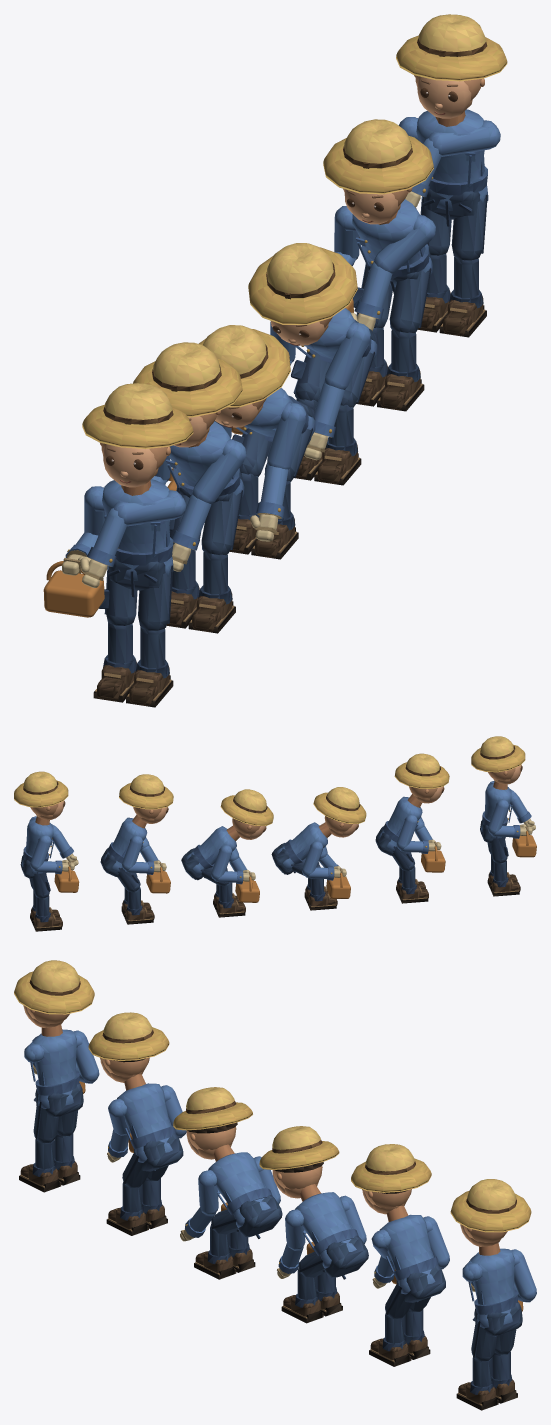
Rendered from ba-harvest-side-after.glb.
3 renders of one model, top to bottom at view 1: azimuth 30°, elevation 25°; view 2: azimuth 150°, elevation 25°; view 3: azimuth 270°, elevation 25°, orthographic. The views are drawn at different scales.
Visible parts, largest first — view 1: strawHat (×6), denimJacketTorso (×6), leftShin (×6), leftUpperArm (×6), rightShin (×5), head (×5), leftThigh (×5), leftLowerArm (×5), rightThigh (×4), trouserHips (×2), harvestBasket, rightUpperArm (×2); view 2: strawHat (×6), denimJacketTorso (×6), rightShin (×6), harvestBasket (×6), rightUpperArm (×6), head (×6), rightLowerArm (×6), rightThigh (×4), trouserHips (×4), leftLowerArm (×2); view 3: denimJacketTorso (×6), strawHat (×6), leftShin (×6), trouserHips (×6), rightShin (×6), head (×6), leftThigh (×4), rightUpperArm (×3), leftUpperArm (×3).
Part boxes in pixels (<box>): strawHat (×6): <box>82,14,507,448</box>; denimJacketTorso (×6): <box>102,109,488,580</box>; leftShin (×6): <box>126,257,486,707</box>; leftUpperArm (×6): <box>112,120,500,526</box>; rightShin (×5): <box>93,253,450,702</box>; head (×5): <box>100,75,484,487</box>; leftThigh (×5): <box>138,194,487,630</box>; leftLowerArm (×5): <box>87,261,392,566</box>; rightThigh (×4): <box>99,196,451,625</box>; trouserHips (×2): <box>108,189,479,597</box>; harvestBasket: <box>43,570,104,617</box>; rightUpperArm (×2): <box>84,206,359,535</box>; strawHat (×6): <box>14,736,525,825</box>; denimJacketTorso (×6): <box>21,781,512,875</box>; rightShin (×6): <box>33,860,520,931</box>; harvestBasket (×6): <box>54,834,536,902</box>; rightUpperArm (×6): <box>30,799,509,879</box>; head (×6): <box>30,764,522,839</box>; rightLowerArm (×6): <box>33,825,520,884</box>; rightThigh (×4): <box>31,836,508,898</box>; trouserHips (×4): <box>100,826,393,880</box>; leftLowerArm (×2): <box>52,794,531,858</box>; denimJacketTorso (×6): <box>30,1024,517,1328</box>; strawHat (×6): <box>14,960,531,1232</box>; leftShin (×6): <box>19,1139,498,1410</box>; trouserHips (×6): <box>34,1083,522,1336</box>; rightShin (×6): <box>54,1133,517,1403</box>; head (×6): <box>23,1005,507,1246</box>; leftThigh (×4): <box>33,1100,497,1361</box>; rightUpperArm (×3): <box>74,1030,536,1300</box>; leftUpperArm (×3): <box>108,1098,305,1250</box>.
Size of what is drawn, in the model's own units: 6.26 by 2.4 by 5.22.
